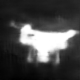plane: (9, 20, 80, 66)
